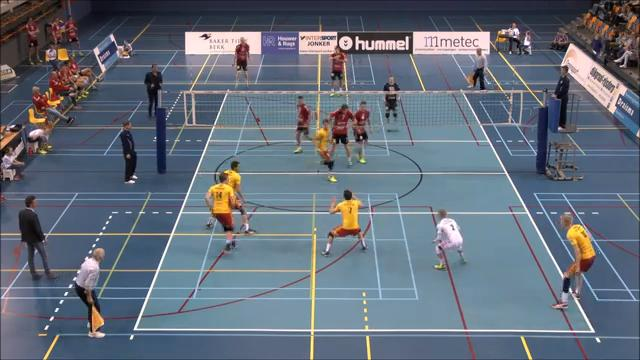Player: (552, 214, 594, 308), (205, 174, 240, 251), (432, 209, 465, 269), (329, 104, 353, 165), (313, 119, 336, 181), (353, 101, 370, 163), (294, 96, 310, 153), (224, 161, 245, 202), (329, 46, 346, 95), (233, 37, 249, 87), (383, 76, 399, 123)
Receive: (319, 186, 368, 256)
